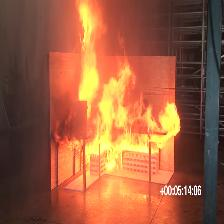fire: (54, 0, 181, 170)
